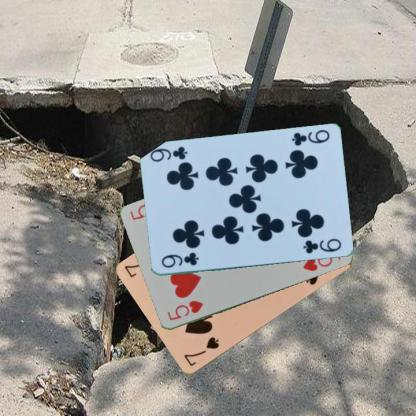5h: (164, 298, 205, 323)
7s: (181, 335, 221, 368)
9c: (289, 127, 331, 147), (158, 250, 200, 269)
